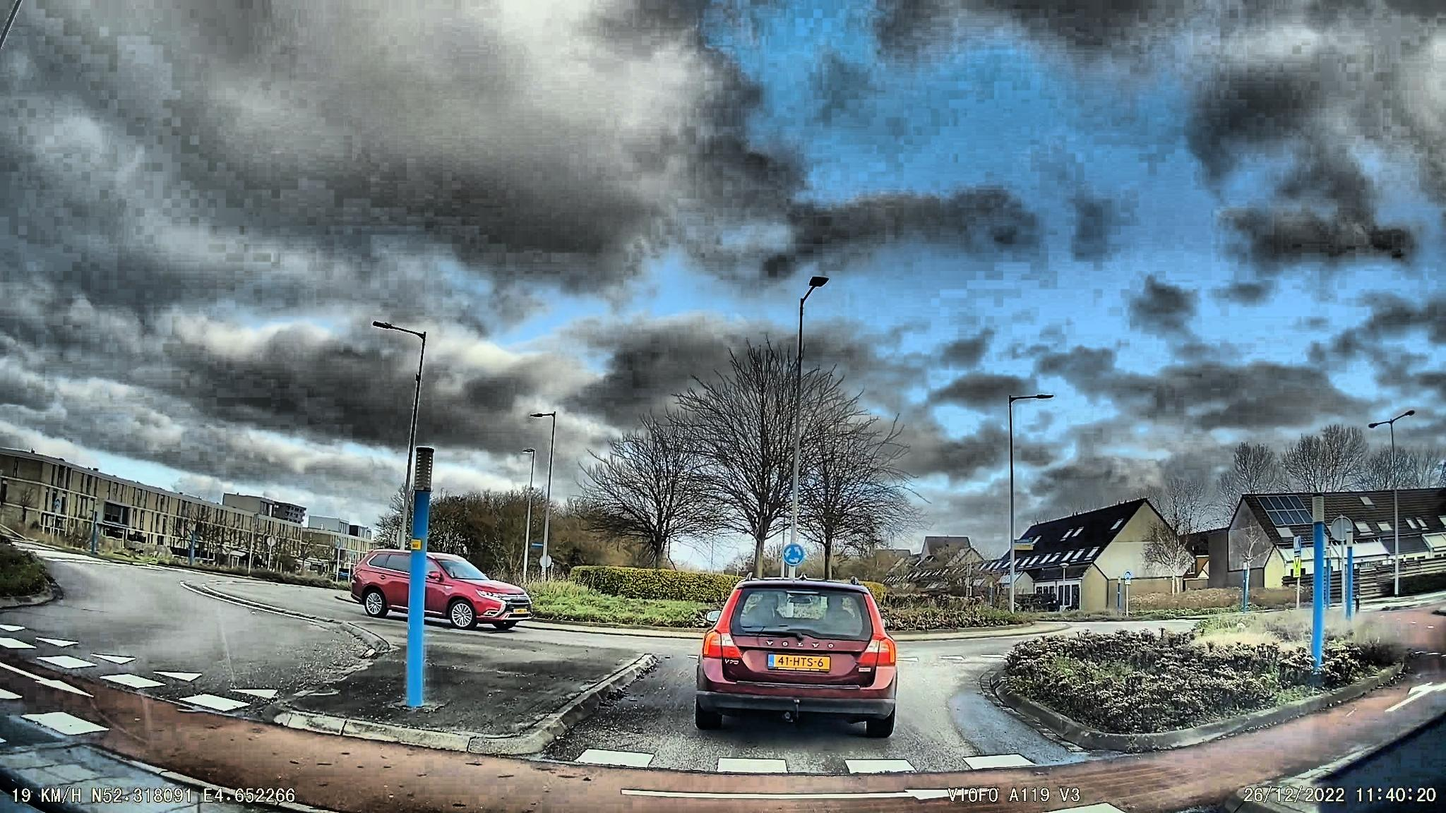Roads: (470, 640, 1446, 813)
